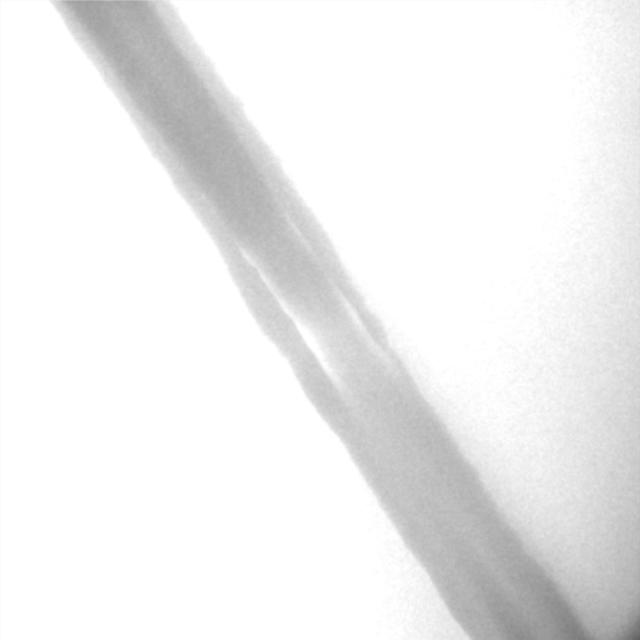unfused: (244, 212, 387, 393)
